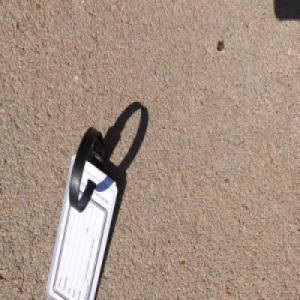LuggageTag: (46, 122, 120, 300)
